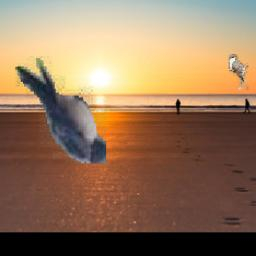Cuckoo: (229, 54, 248, 90)
Swallow: (16, 57, 107, 164)
